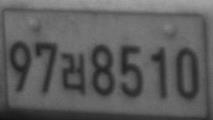0: (175, 46, 199, 99)
1: (148, 46, 173, 98)
5: (120, 45, 143, 98)
7: (34, 42, 58, 92)
8: (91, 43, 114, 96)
9: (8, 40, 32, 92)
러: (61, 53, 86, 93)
